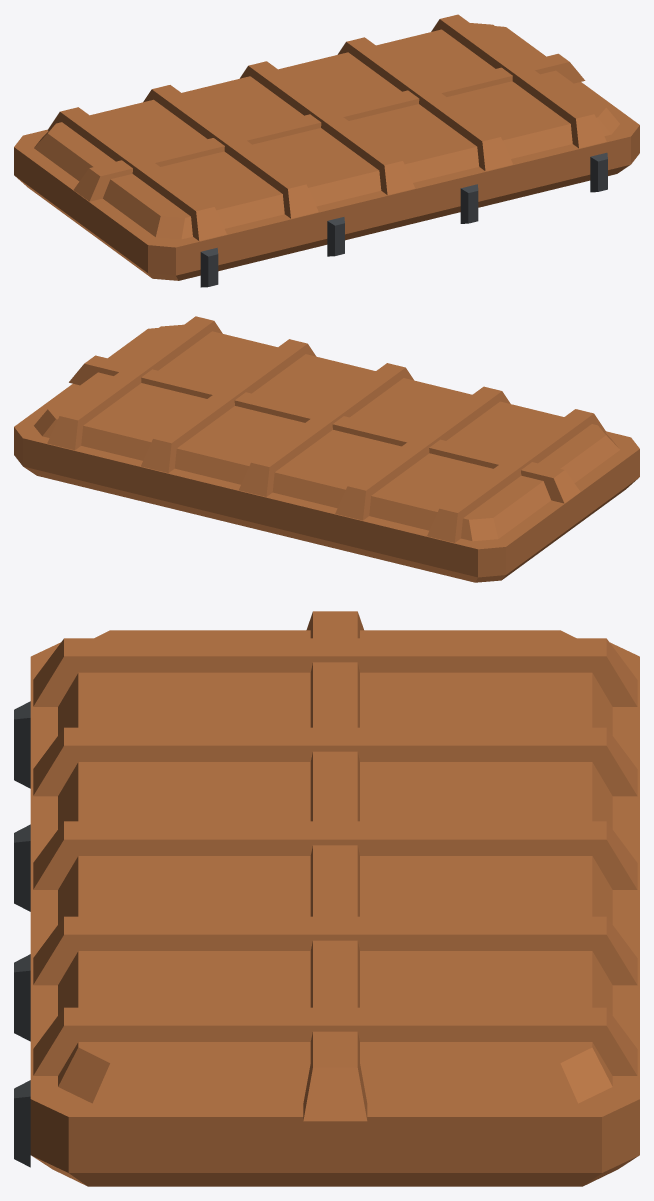
Rendered from SM_Prop_Crate_Plastic_Lid_01.fbx.
The picture shows the model from 3 angles, top to bottom: view 1: azimuth 30°, elevation 25°; view 2: azimuth 150°, elevation 25°; view 3: azimuth 270°, elevation 25°; orthographic projection. The views are drawn at different scales.
Visible parts, largest first — view 1: SM_Prop_Crate_Plastic_Lid_01; view 2: SM_Prop_Crate_Plastic_Lid_01; view 3: SM_Prop_Crate_Plastic_Lid_01.
Part boxes in pixels (x1,y1,x2,y2): SM_Prop_Crate_Plastic_Lid_01: (14,14,639,287); SM_Prop_Crate_Plastic_Lid_01: (14,316,639,582); SM_Prop_Crate_Plastic_Lid_01: (14,611,639,1186).
Size of the model in its own units: 146 by 19.36 by 79.8.
